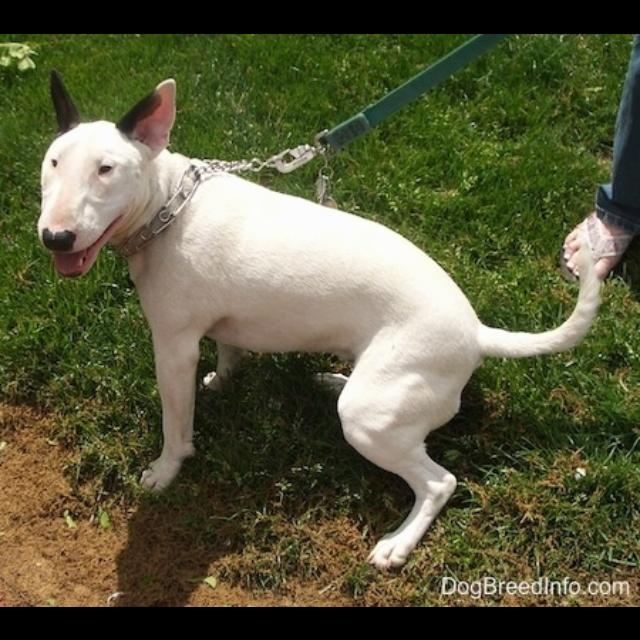bullterrier: (37, 67, 604, 570)
